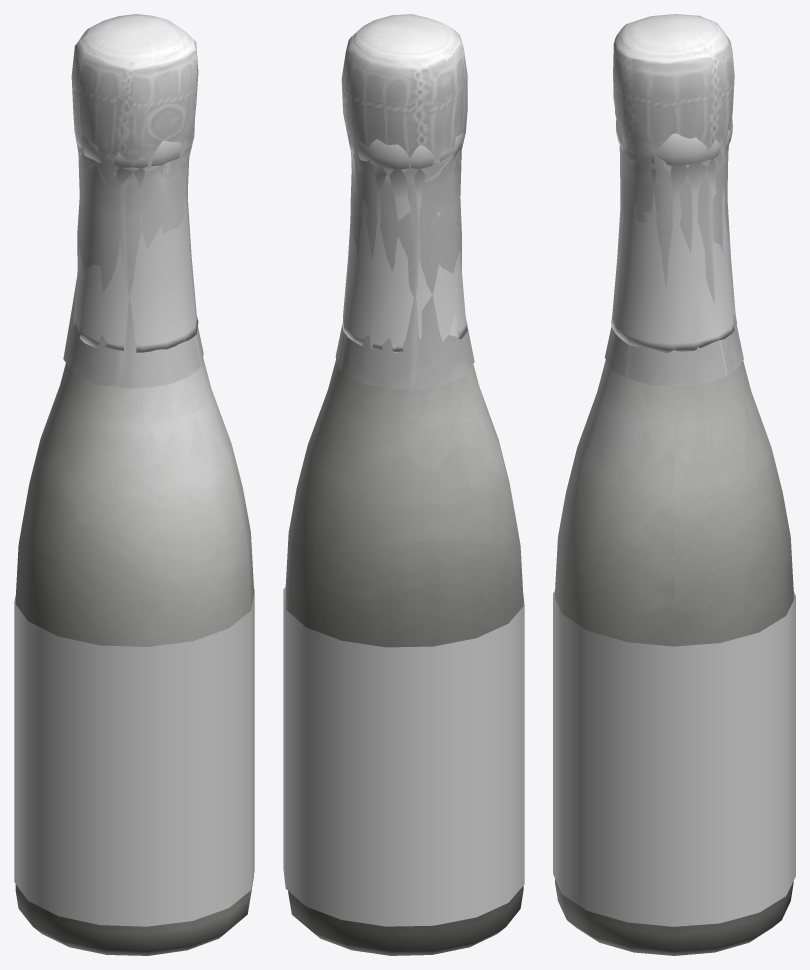
The model's file is ECOVA_39_PLU_375ml.glb.
The picture shows the model from 3 angles, left to right: view 1: azimuth 30°, elevation 25°; view 2: azimuth 150°, elevation 25°; view 3: azimuth 270°, elevation 25°; orthographic projection.
Parts seen in each view (by area): view 1: label, bottiglia, champagneAluminium, longWax; view 2: label, bottiglia, champagneAluminium, longWax; view 3: label, bottiglia, champagneAluminium, longWax.
Part boxes in pixels (<box>): label: <box>14,589,254,926</box>; bottiglia: <box>15,357,253,955</box>; champagneAluminium: <box>63,14,203,388</box>; longWax: <box>73,135,198,352</box>; label: <box>283,587,524,926</box>; bottiglia: <box>285,359,523,955</box>; champagneAluminium: <box>335,14,474,389</box>; longWax: <box>342,132,467,351</box>; label: <box>553,591,795,926</box>; bottiglia: <box>555,359,793,955</box>; champagneAluminium: <box>604,14,743,386</box>; longWax: <box>610,118,736,353</box>.
Size of the model in its own units: 0.0653 by 0.2615 by 0.0649.
7 materials, 5 textured.
